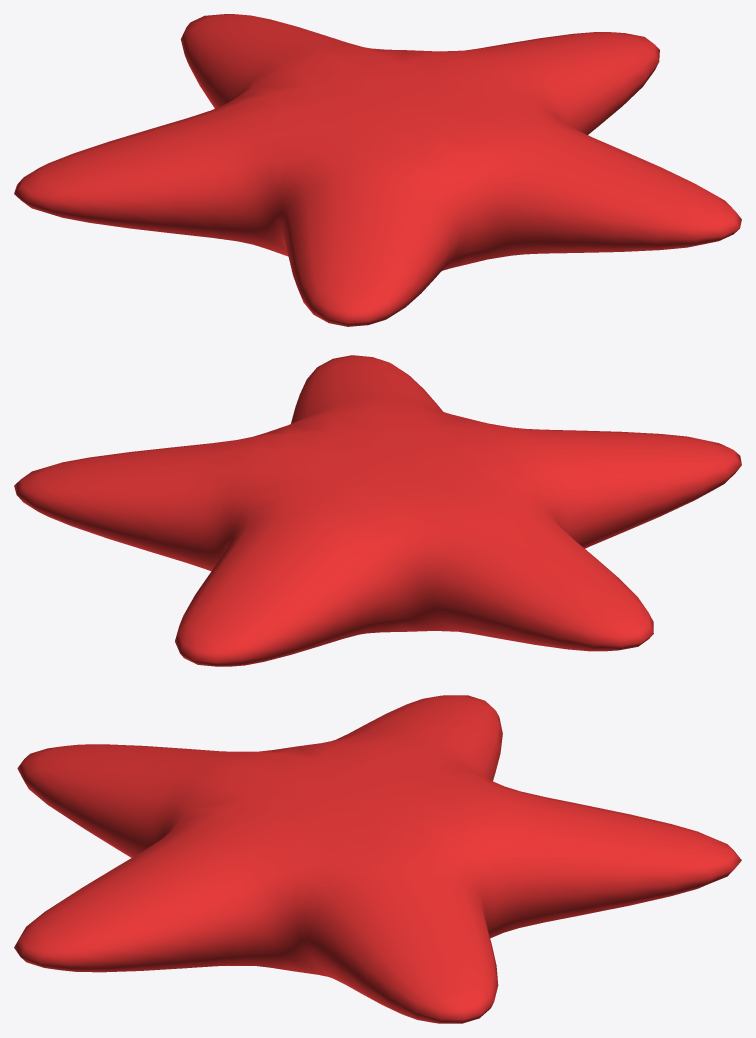
The model's file is Starfish.fbx.
3 renders of one model, top to bottom at view 1: azimuth 30°, elevation 25°; view 2: azimuth 150°, elevation 25°; view 3: azimuth 270°, elevation 25°, orthographic. The views are drawn at different scales.
Visible parts, largest first — view 1: Starfish; view 2: Starfish; view 3: Starfish.
Boxes of the visible parts, x1=… form: Starfish: x1=14, y1=14, x2=741, y2=326; Starfish: x1=14, y1=355, x2=741, y2=666; Starfish: x1=14, y1=695, x2=741, y2=1023.
Bounding box in the file's own units: 60.28 × 11.4 × 57.98.
